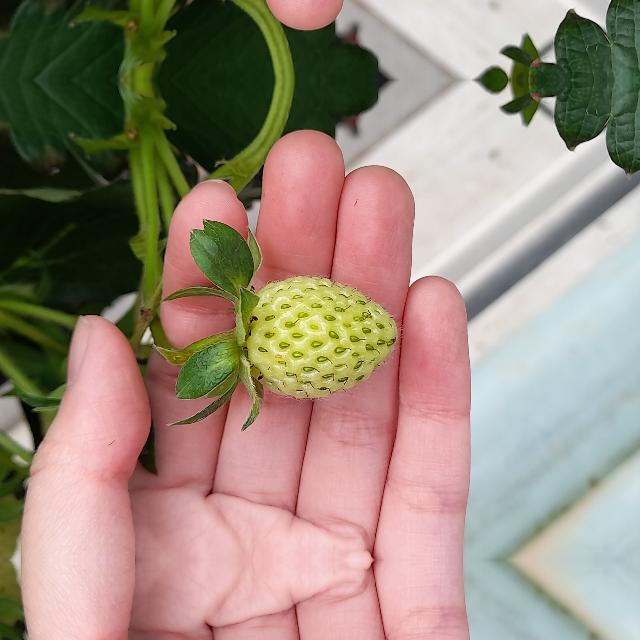Health_25: (247, 276, 398, 398)
